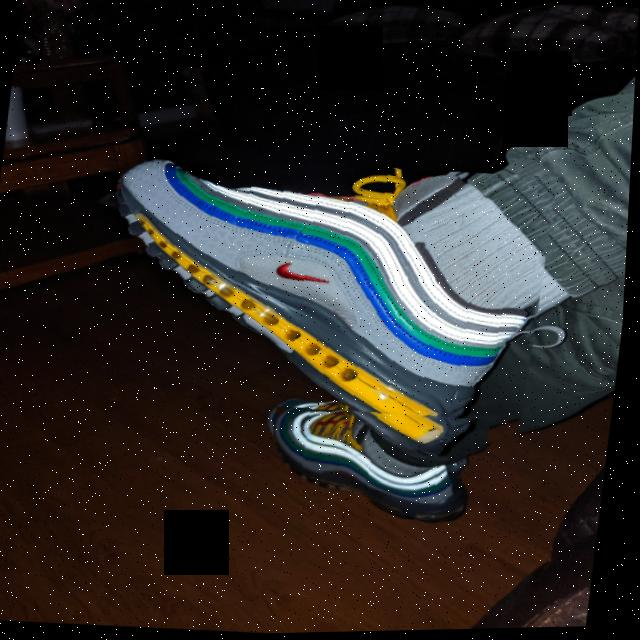shoe: (72, 147, 561, 469), (268, 404, 495, 528)
